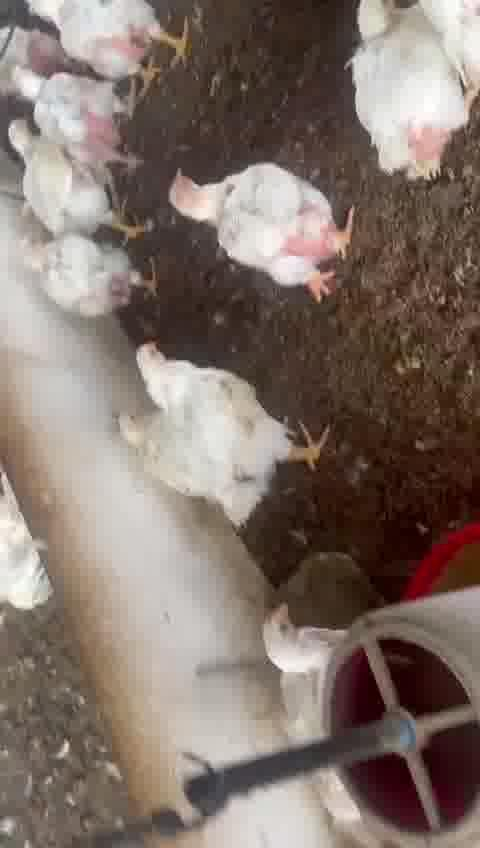AbNormal: (345, 9, 473, 172)
Normal: (137, 344, 325, 489), (164, 164, 357, 302), (10, 70, 137, 177), (24, 9, 197, 85), (20, 230, 157, 317)
